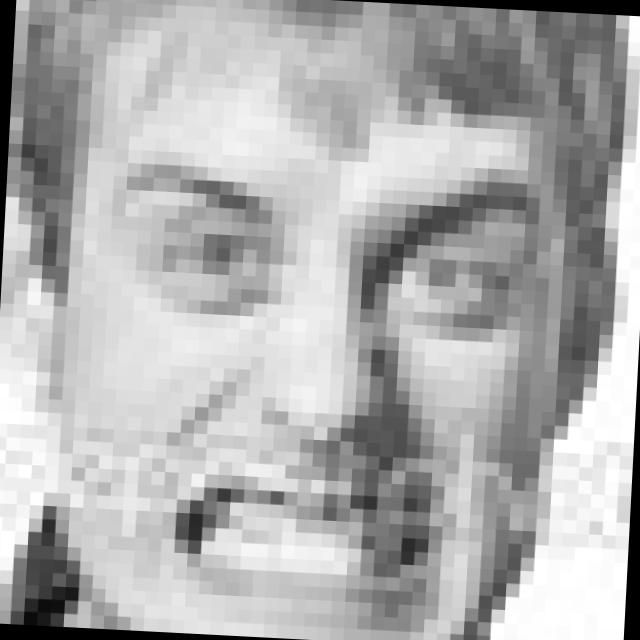angry: (98, 153, 552, 616)
